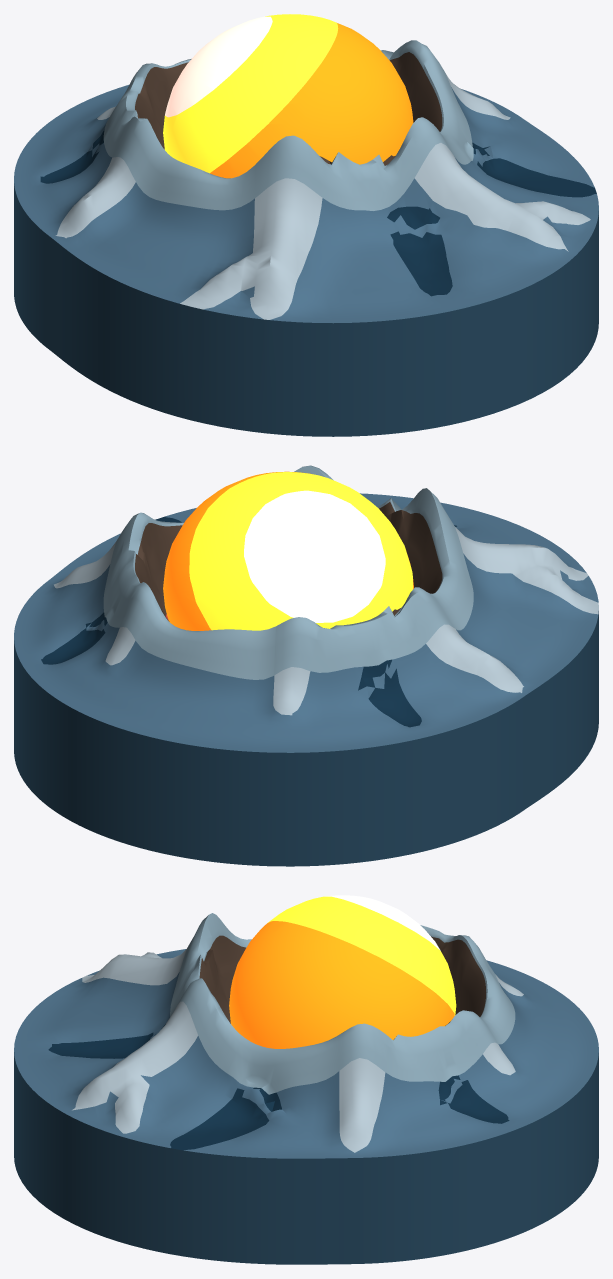
File: ice_vent_93.glb
3 renders of one model, top to bottom at view 1: azimuth 30°, elevation 25°; view 2: azimuth 150°, elevation 25°; view 3: azimuth 270°, elevation 25°, orthographic. The views are drawn at different scales.
Parts seen in each view (by area): view 1: ice, orb; view 2: ice, orb; view 3: ice, orb.
Boxes of the visible parts, x1,y1,x2,y2 form: ice: (14,40,598,436); orb: (163,14,413,178); ice: (14,465,598,866); orb: (163,471,413,630); ice: (14,913,598,1264); orb: (229,895,456,1048).
Bounding box in the file's own units: 18.49 × 9.86 × 21.
